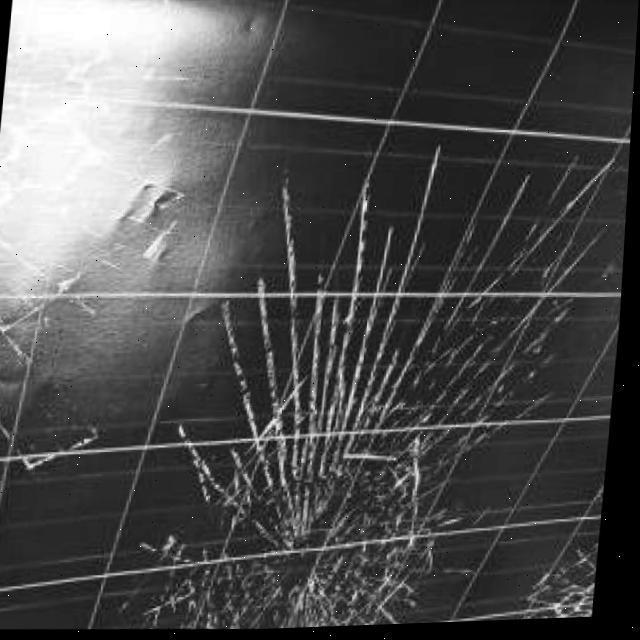Structural Damage: (225, 234, 556, 615), (236, 447, 451, 631), (527, 522, 607, 624)
